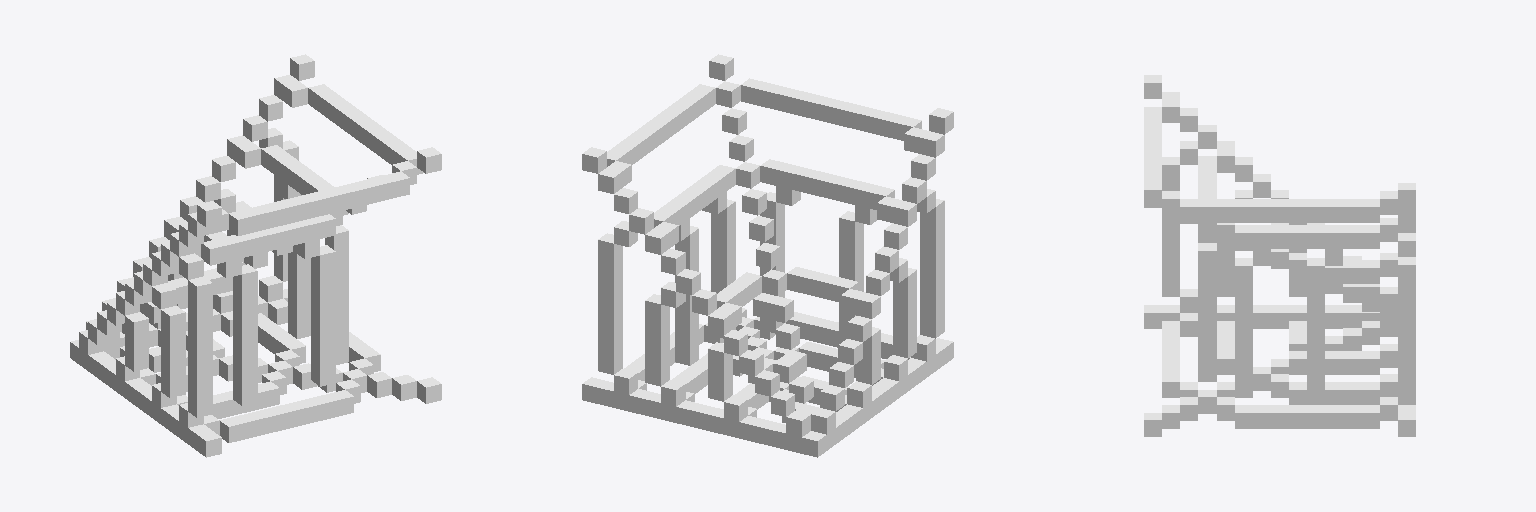
Rendered from sieć3d.obj.
3 views of the same model, side by side, from view 1: azimuth 30°, elevation 25°; view 2: azimuth 150°, elevation 25°; view 3: azimuth 270°, elevation 25° (orthographic).
Visible parts, largest first — view 1: object 1; view 2: object 1; view 3: object 1.
Boxes of the visible parts, x1,y1,x2,y2 form: object 1: [70, 54, 441, 457]; object 1: [582, 54, 953, 457]; object 1: [1144, 75, 1415, 436].
Size of the model in its own units: 1.5 by 1.5 by 1.5.